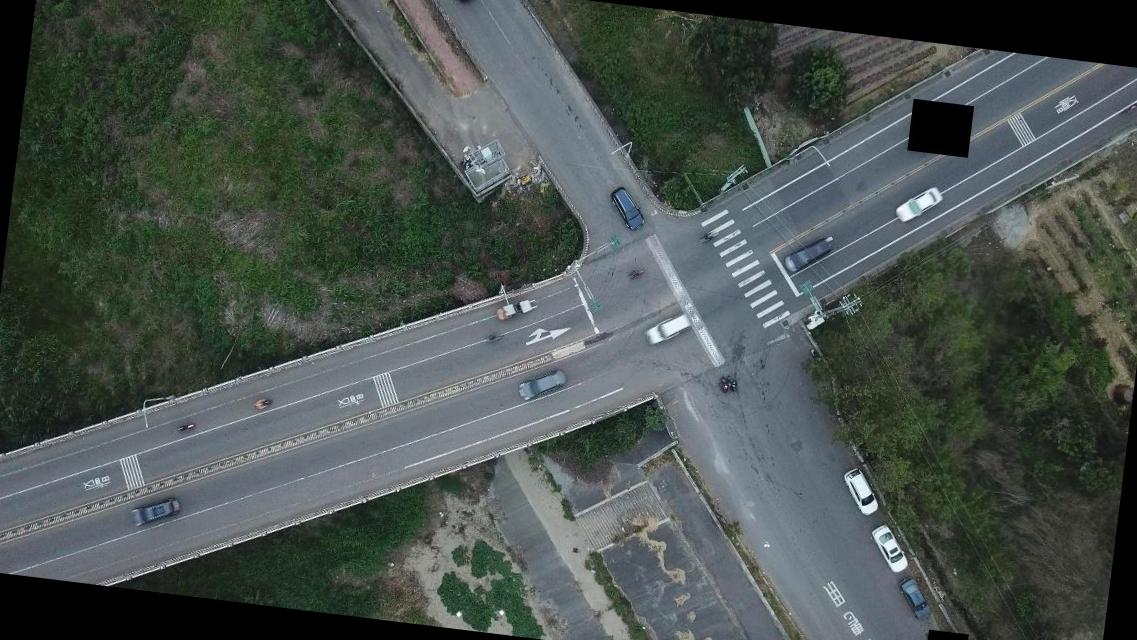vehicle: (892, 181, 945, 226), (868, 522, 915, 572), (128, 489, 183, 531), (516, 362, 568, 405), (894, 574, 937, 622), (840, 468, 882, 515), (782, 236, 831, 276), (604, 184, 647, 229), (645, 310, 690, 350)
